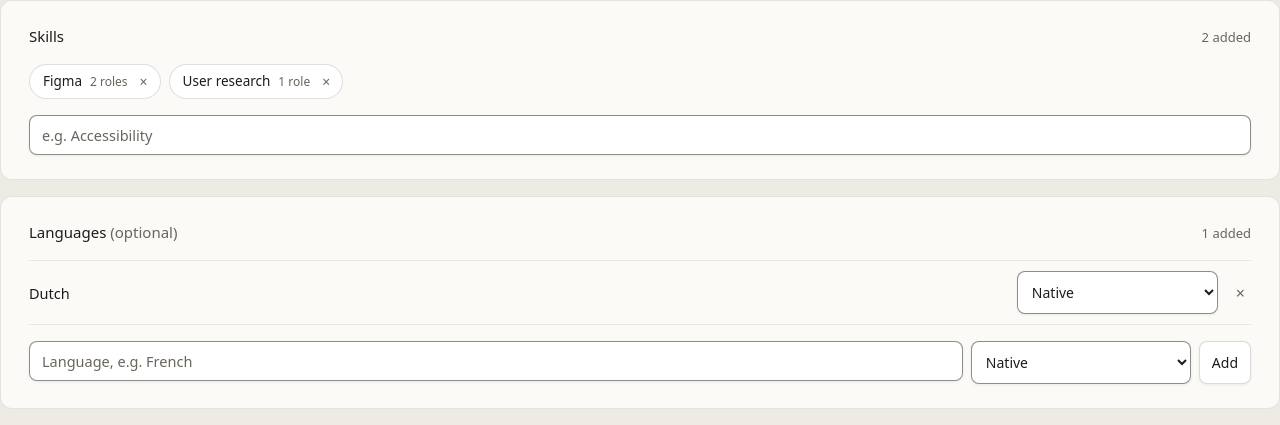
Scenario: Skills › adds a skill with Enter
Step 1. Type "Accessibility" into the field named "Add a skill" → coordinates (640, 135), box [29,115,1251,155]
Then press Enter
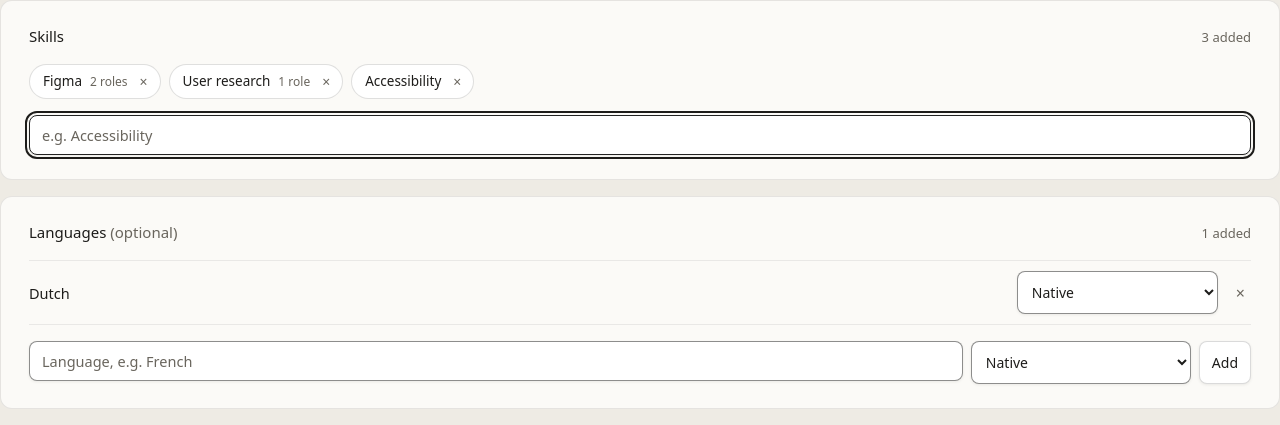
expect the list item "Accessibility ×" does not show "role": met, box [351,64,474,99]
expect the text "Accessibility" is shown: met, box [365,72,441,90]
